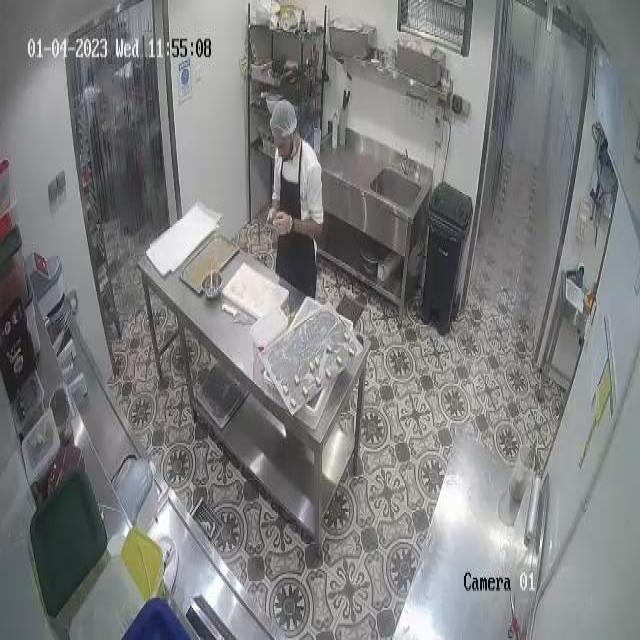hairnet: (270, 98, 298, 137)
